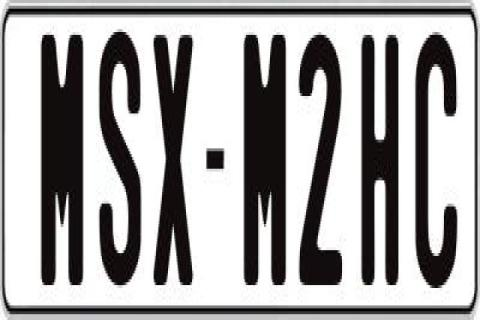0: (296, 27, 342, 286)
C: (414, 32, 458, 294)
H: (358, 32, 398, 300)
M: (38, 26, 80, 294), (242, 35, 284, 299)
S: (100, 29, 148, 291)
X: (154, 26, 196, 282)
